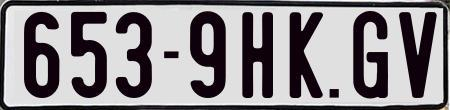3: (116, 11, 154, 100)
5: (69, 12, 110, 99)
6: (24, 12, 61, 100)
9: (190, 8, 229, 100)
G: (350, 8, 388, 100)
H: (240, 9, 277, 99)
K: (288, 9, 327, 99)
V: (398, 12, 436, 101)
